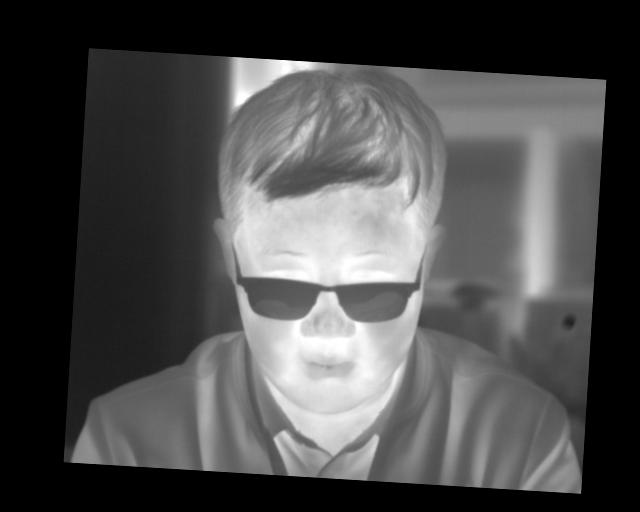face: (198, 59, 453, 423)
